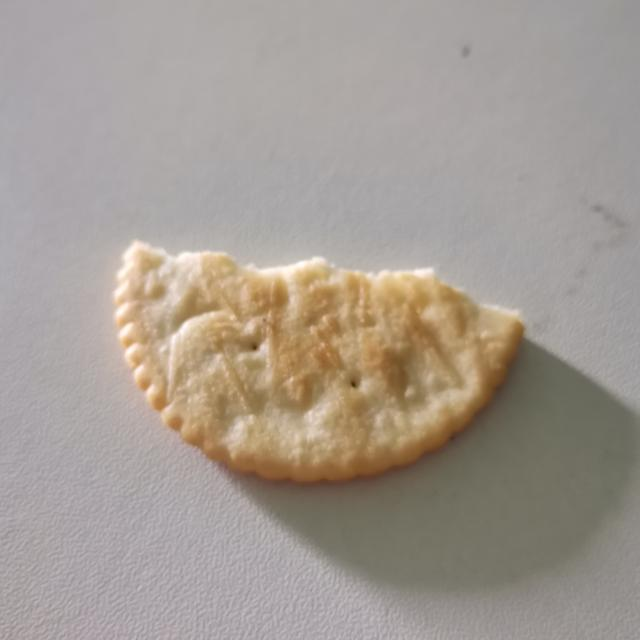Broken: (112, 238, 524, 484)
